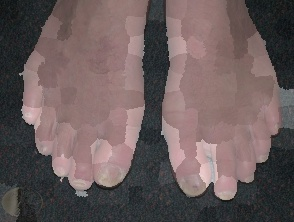Nail_psoriasis: (173, 162, 218, 205), (91, 159, 130, 191), (18, 105, 42, 128), (67, 177, 94, 194), (52, 160, 73, 181), (35, 138, 55, 159), (215, 187, 239, 203), (255, 149, 275, 167), (269, 120, 288, 137), (242, 172, 258, 186)
